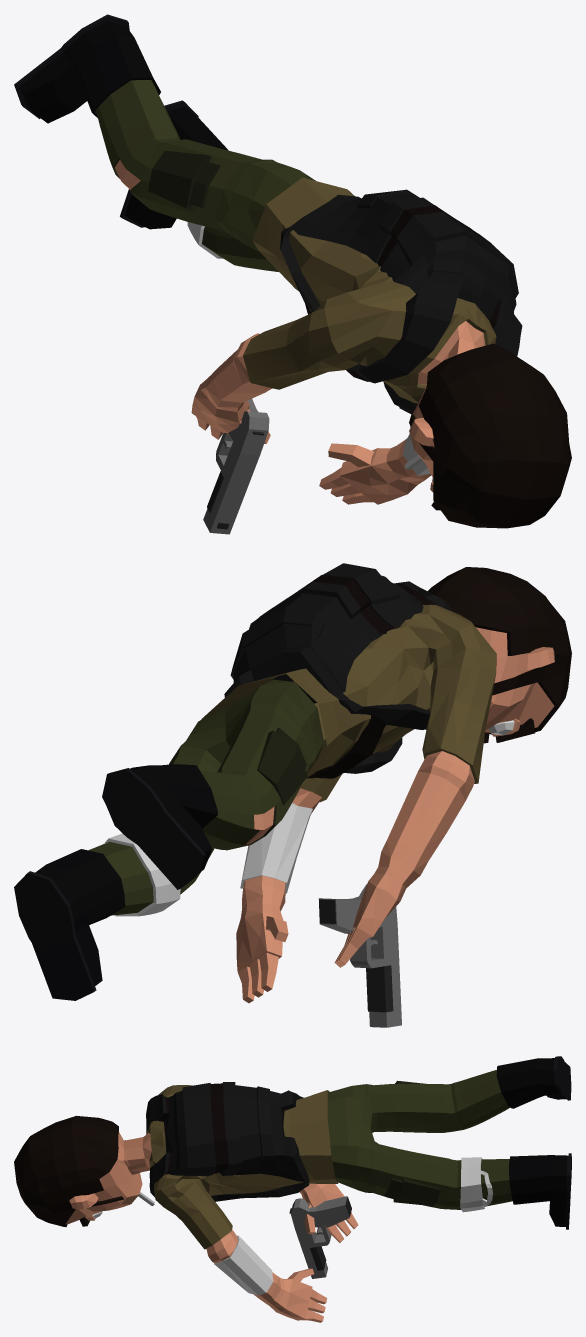
Rendered from frame_0079.obj.
3 views of the same model, one above another, from view 1: azimuth 30°, elevation 25°; view 2: azimuth 150°, elevation 25°; view 3: azimuth 270°, elevation 25° (orthographic). The views are drawn at different scales.
Parts seen in each view (by area): view 1: Body, Gun; view 2: Body, Gun; view 3: Body, Gun.
Part boxes in pixels (x1,y1,x2,y2): Body: (14, 14, 571, 528); Gun: (203, 399, 269, 534); Body: (14, 563, 571, 1003); Gun: (318, 884, 401, 1027); Body: (14, 1056, 571, 1322); Gun: (289, 1196, 351, 1278).
Bounding box in the file's own units: 1.33 × 2.02 × 4.15.
